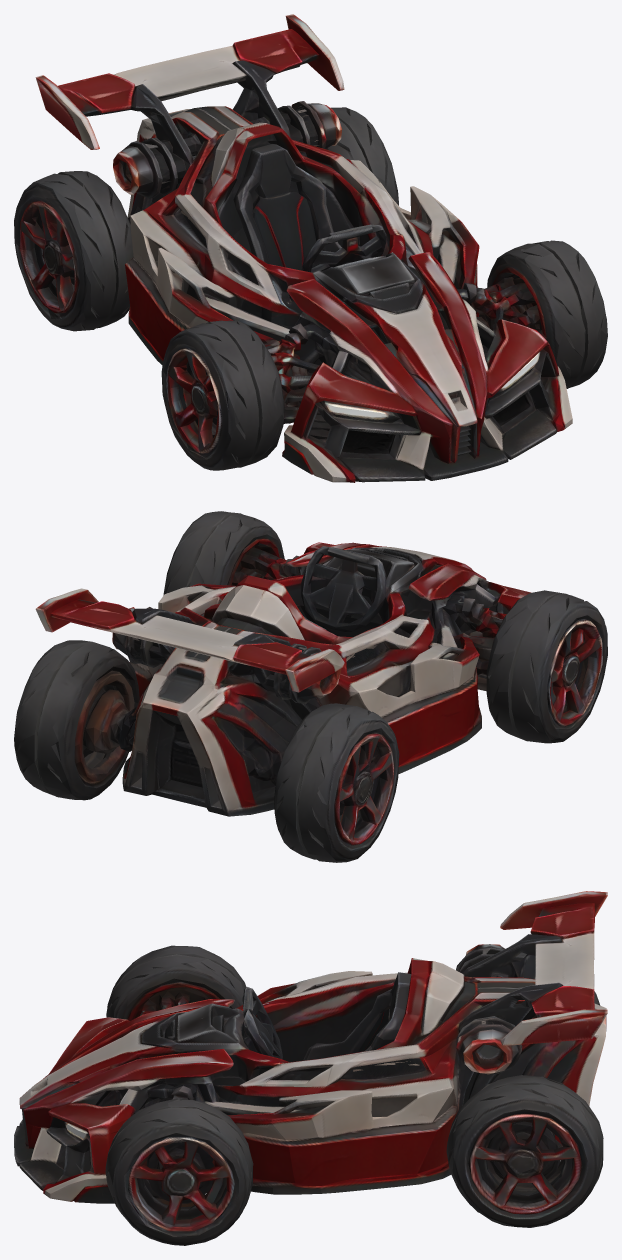
Rendered from 04-crimson-kestrel-pbr.glb.
The picture shows the model from 3 angles, top to bottom: view 1: azimuth 30°, elevation 25°; view 2: azimuth 150°, elevation 25°; view 3: azimuth 270°, elevation 25°; orthographic projection. The views are drawn at different scales.
Parts seen in each view (by area): view 1: model; view 2: model; view 3: model.
Part boxes in pixels (x1=…): model: x1=14, y1=14, x2=607, y2=482; model: x1=14, y1=511, x2=607, y2=862; model: x1=14, y1=891, x2=607, y2=1245.
Bounding box in the file's own units: 1.37 × 0.7432 × 1.9.
Materials: 1 (1 with a texture image).
